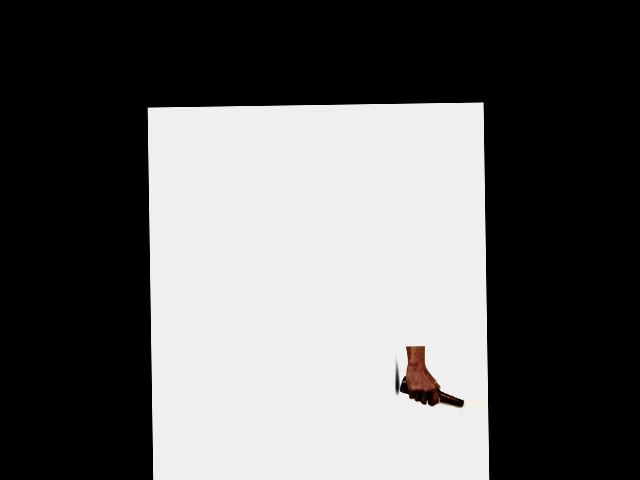beer: (398, 375, 463, 407)
